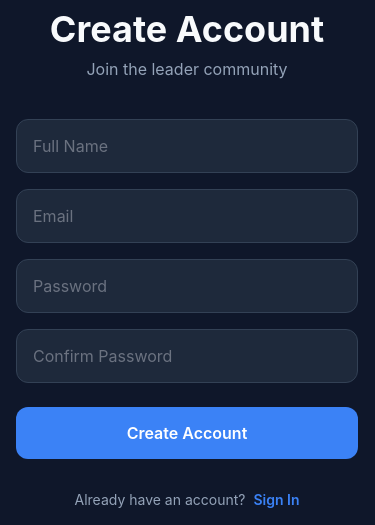
Test: SignUpScreen › should show success screen after successful sign up
The width and height of the screenshot is (375, 525).
In the field with placeholder "Full Name": (187, 146) [16, 118, 358, 172], type "John Doe"
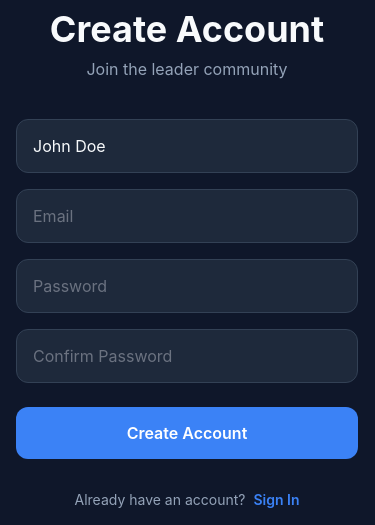
In the field with placeholder "Email": (187, 216) [16, 188, 358, 242], type "john@example.com"
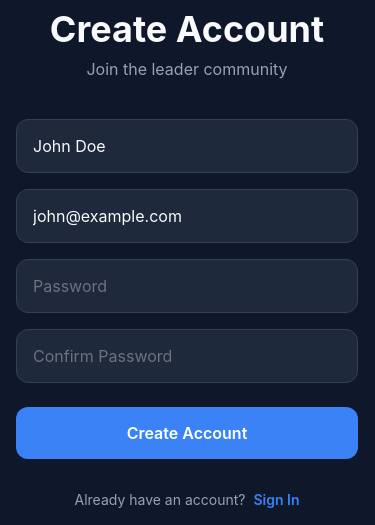
In the password field with placeholder "Password": (187, 286) [16, 258, 358, 312], type "password123"
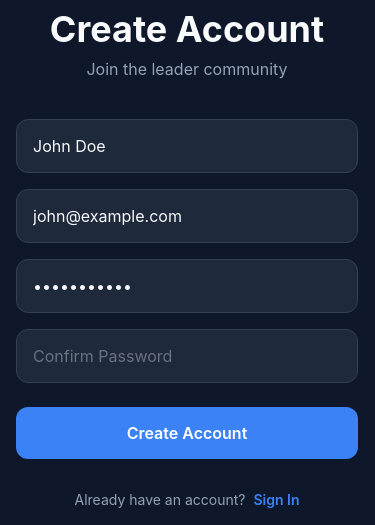
In the password field with placeholder "Confirm Password": (187, 356) [16, 328, 358, 382], type "password123"
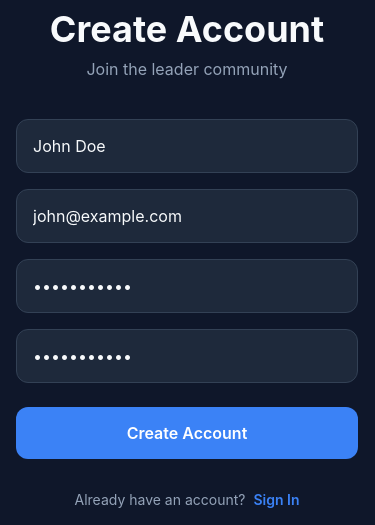
Click the 2nd text "Create Account": (187, 432) [127, 422, 247, 442]
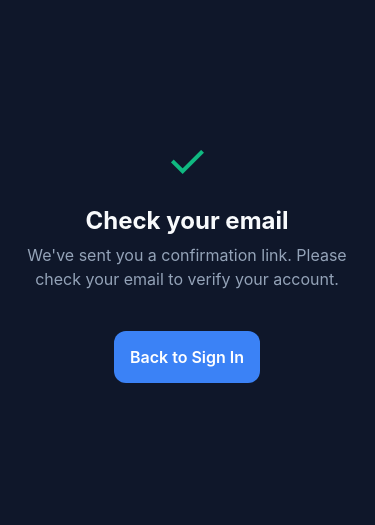
Result: the text "Check your email" is shown at [86, 206, 288, 235]
Result: the text "We've sent you a confirmation link" is shown at [27, 245, 351, 289]
